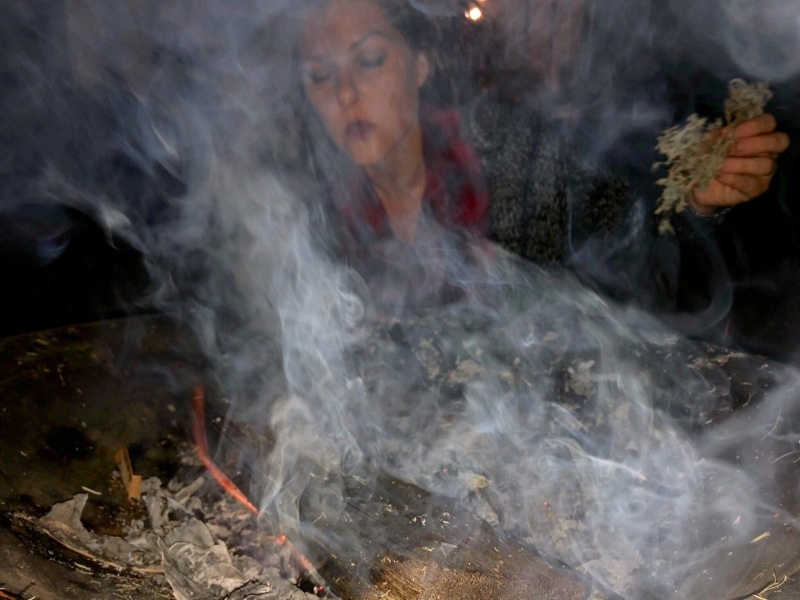smoke: (162, 1, 669, 538)
